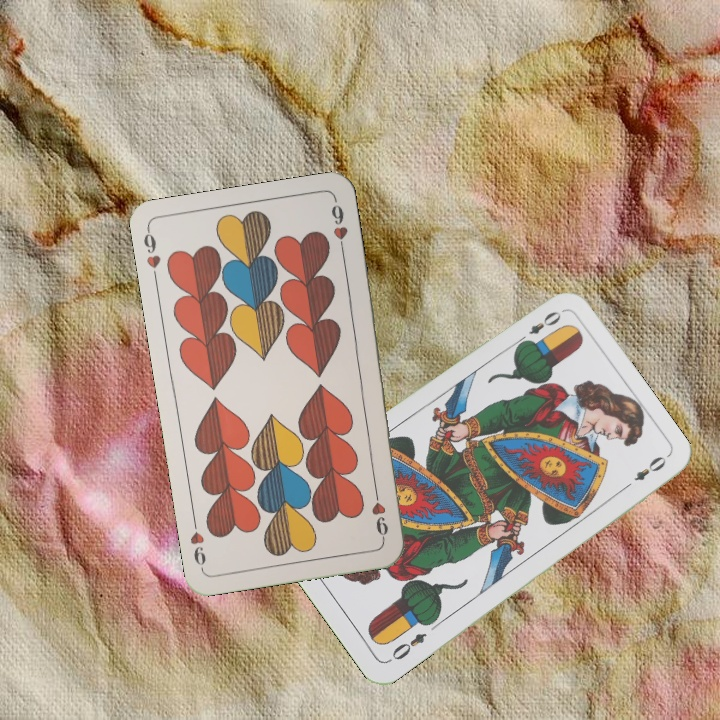EO: (513, 306, 564, 348), (387, 628, 429, 663)
H9: (139, 225, 163, 284), (369, 483, 391, 542)
